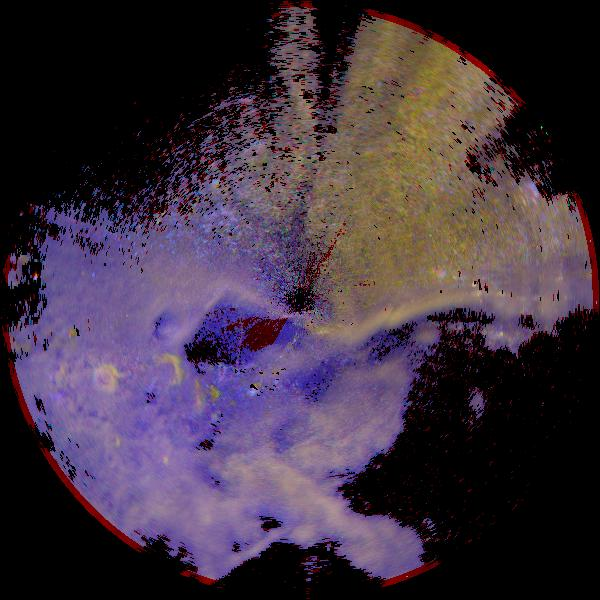roost: (149, 354, 185, 390), (177, 377, 210, 410), (96, 368, 117, 389), (154, 446, 172, 464), (106, 434, 121, 449)
